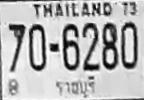0: (28, 23, 46, 70), (121, 21, 138, 68)
2: (82, 23, 100, 70)
6: (62, 23, 79, 69)
7: (8, 23, 25, 71)
8: (102, 22, 118, 69)
RBR: (52, 73, 98, 100)
